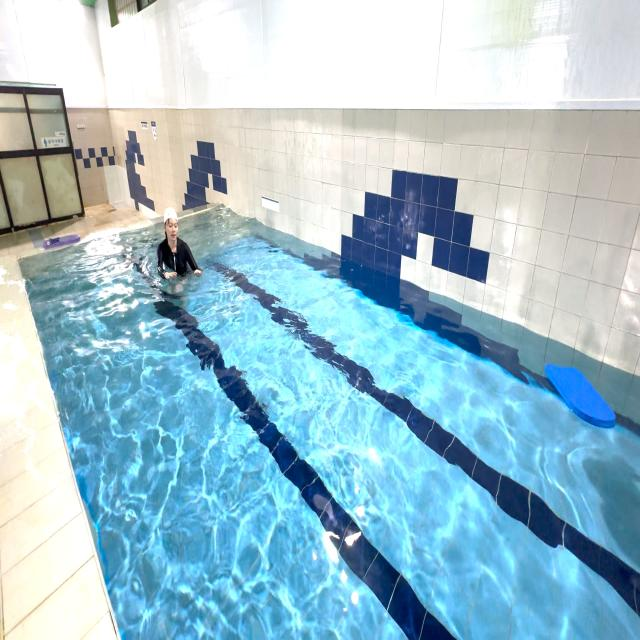Swimming: (154, 204, 201, 292)
